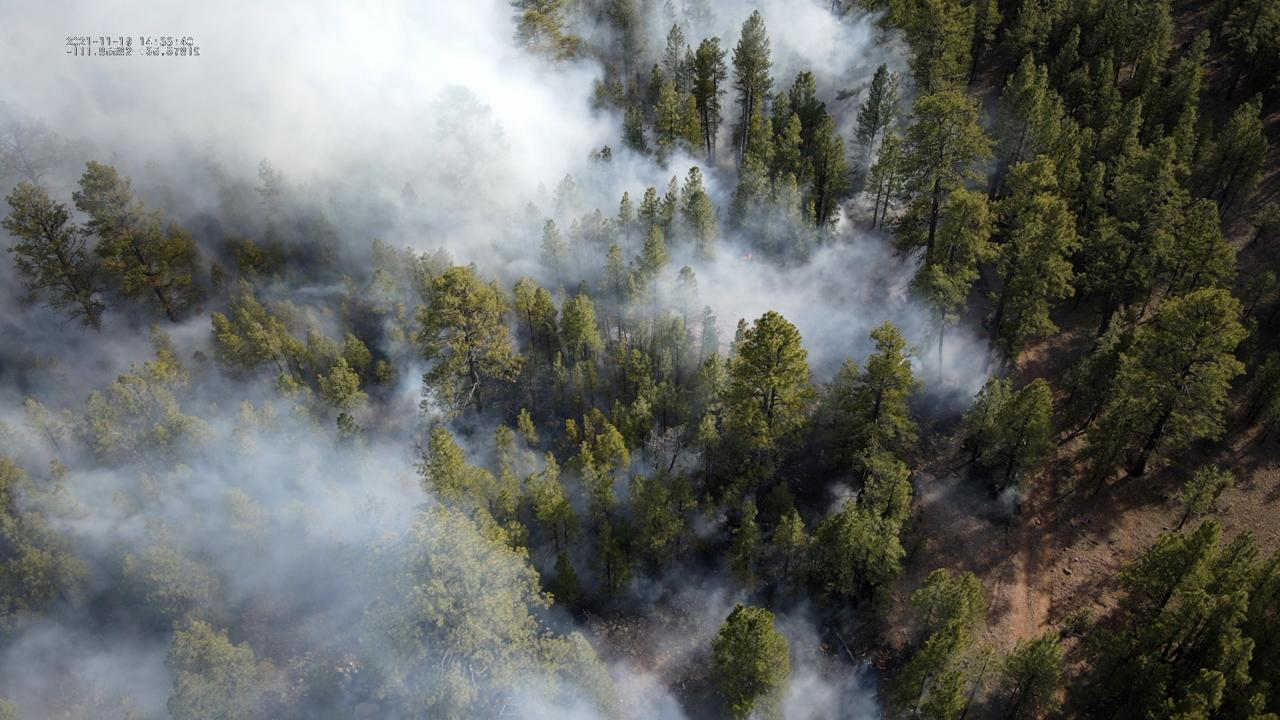fire: (742, 252, 753, 259)
smoke: (0, 0, 1012, 720)
